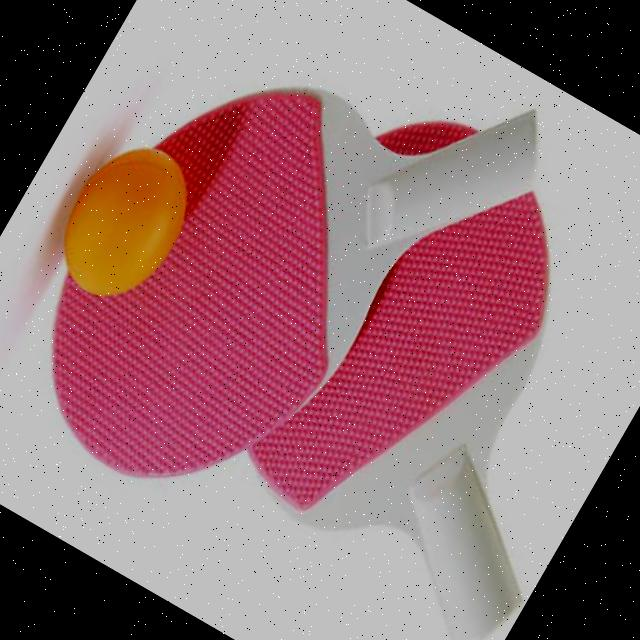ping-pong-ball: (35, 127, 212, 320)
